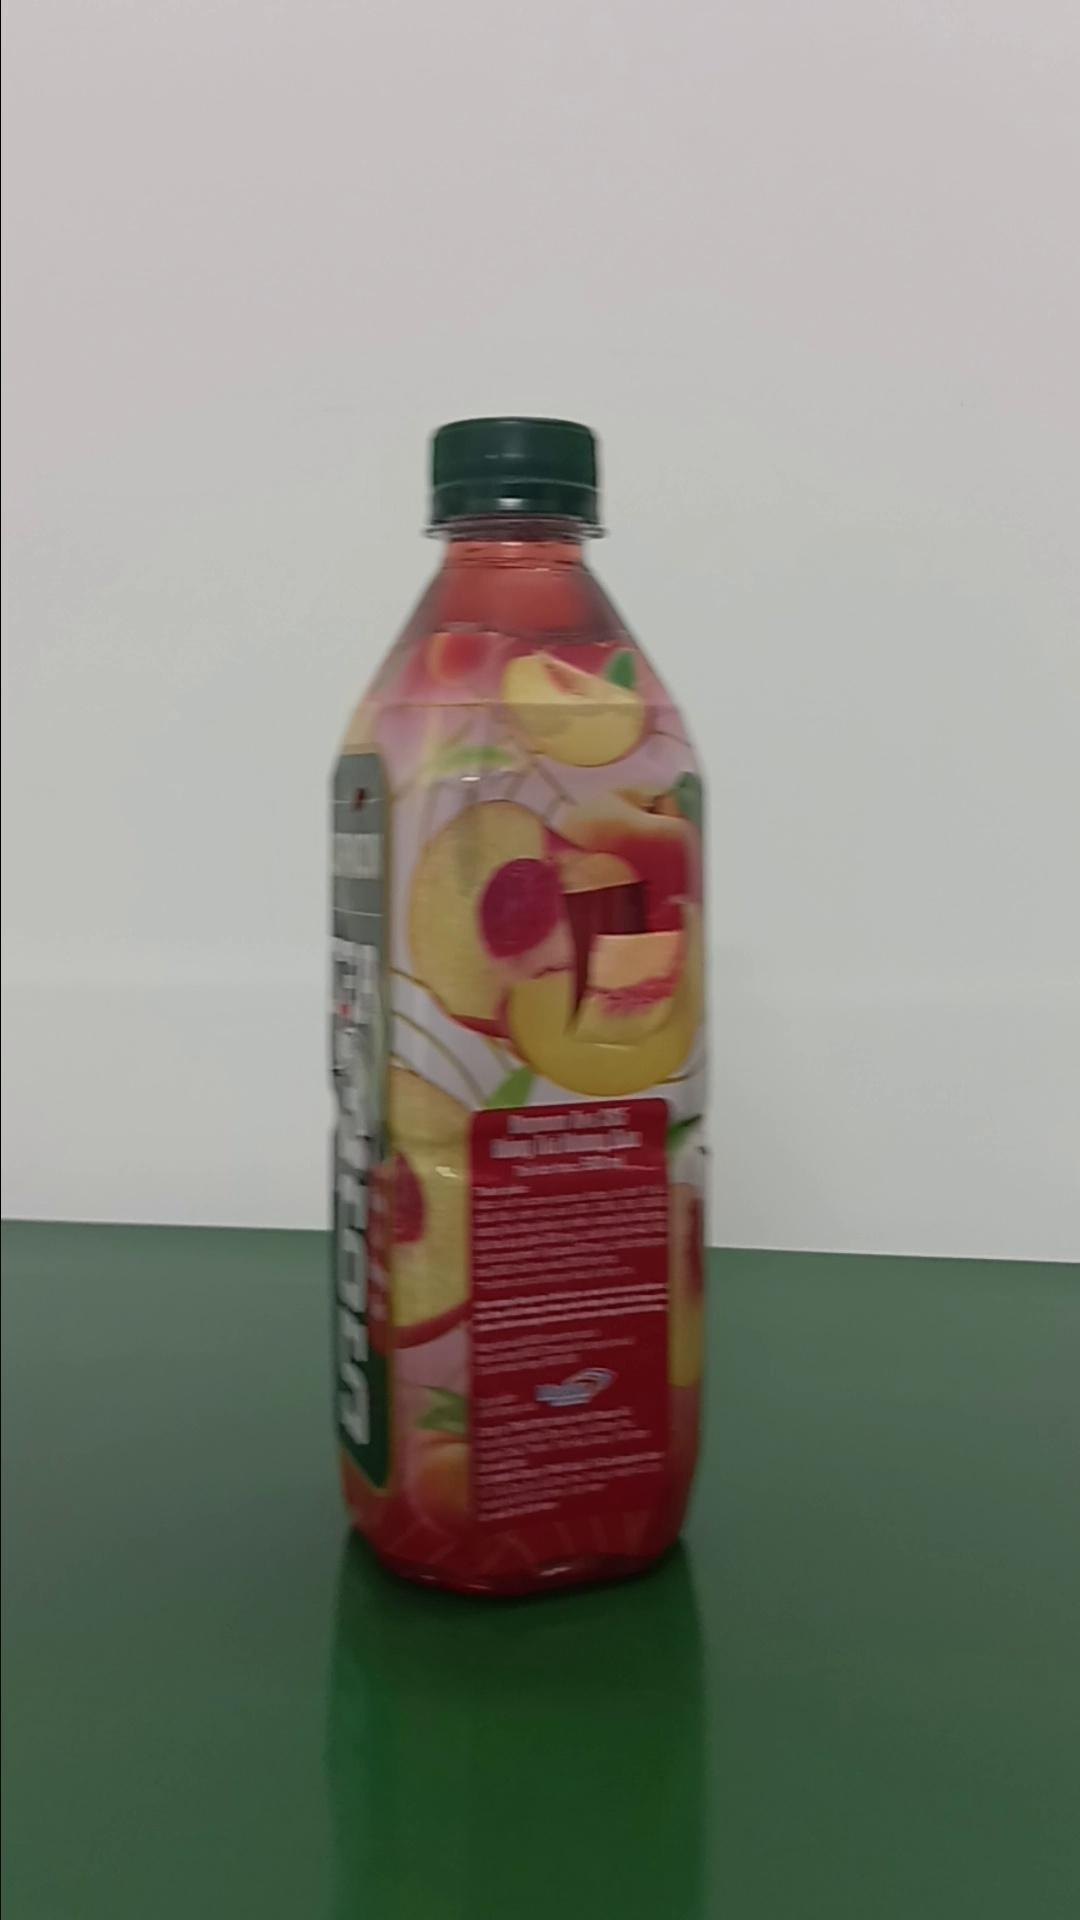loi rach va lap chai: (319, 407, 721, 1604)
